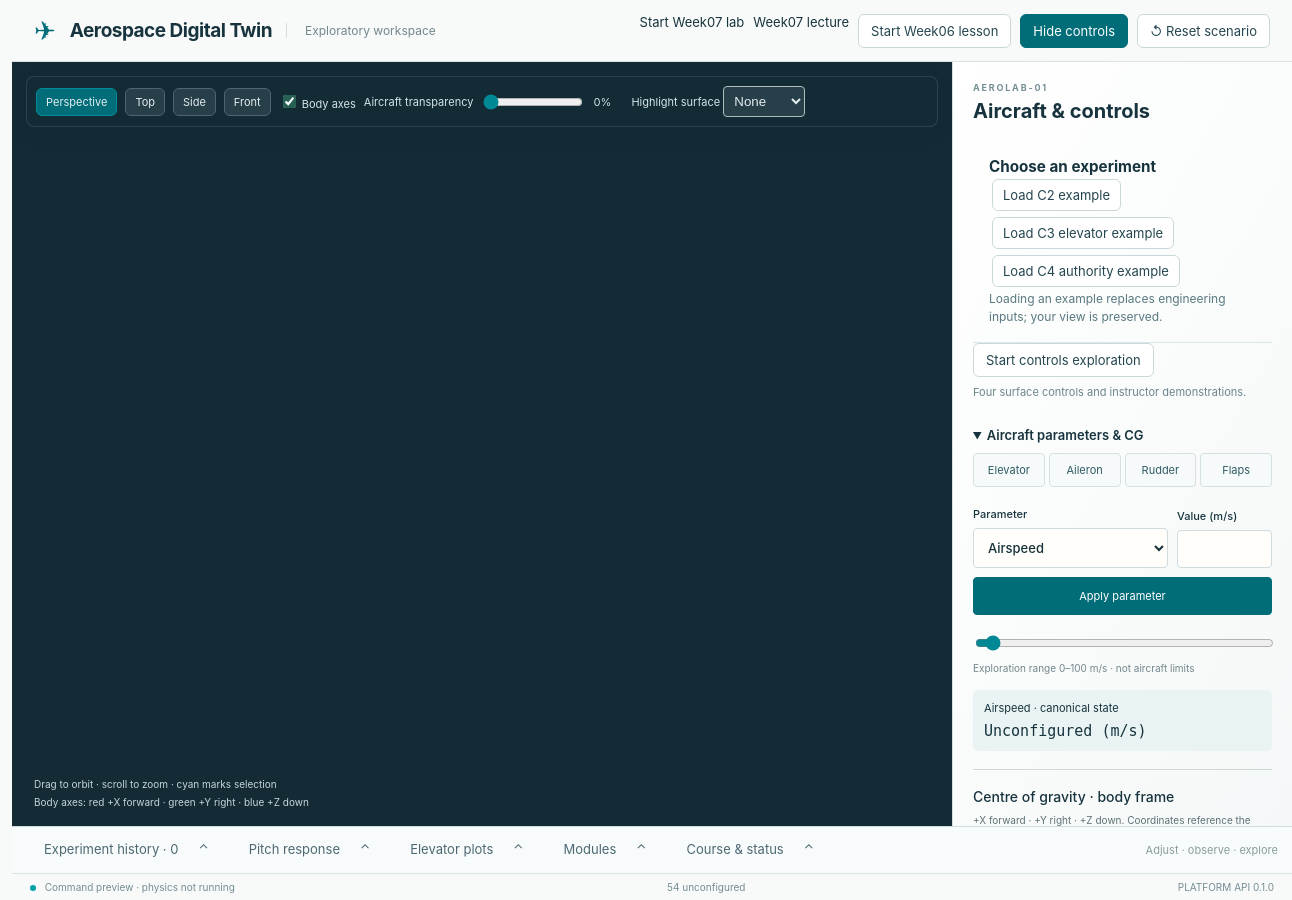
Scenario: parameter workspace › converts degree inputs to canonical radians
Select "Elevator command" in the dropdown labelled "Parameter": (1070, 548) 973,528 -> 1168,568
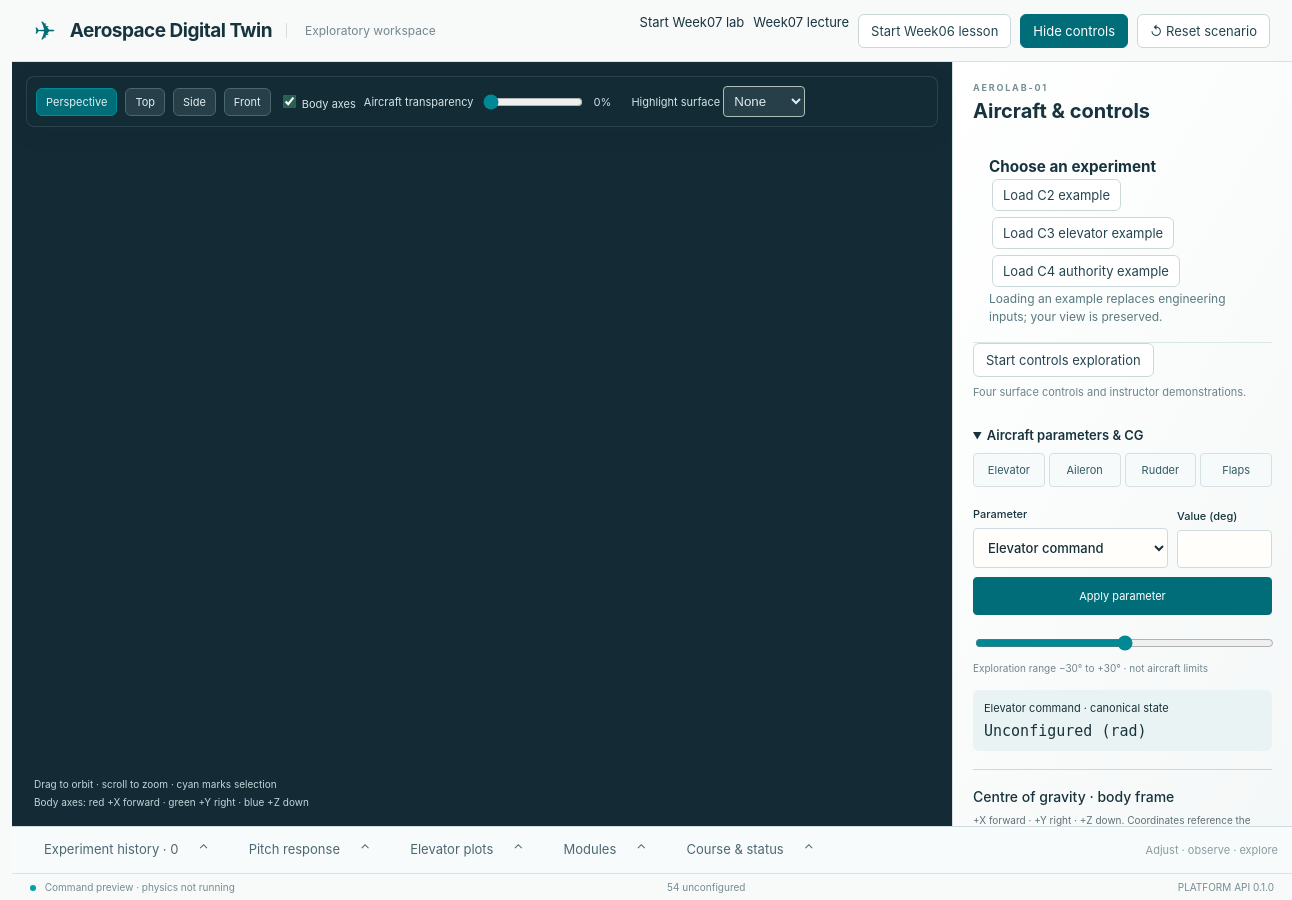
In the number field labelled "Value (deg)": (1224, 549) 1177,530 -> 1272,568, type "15"
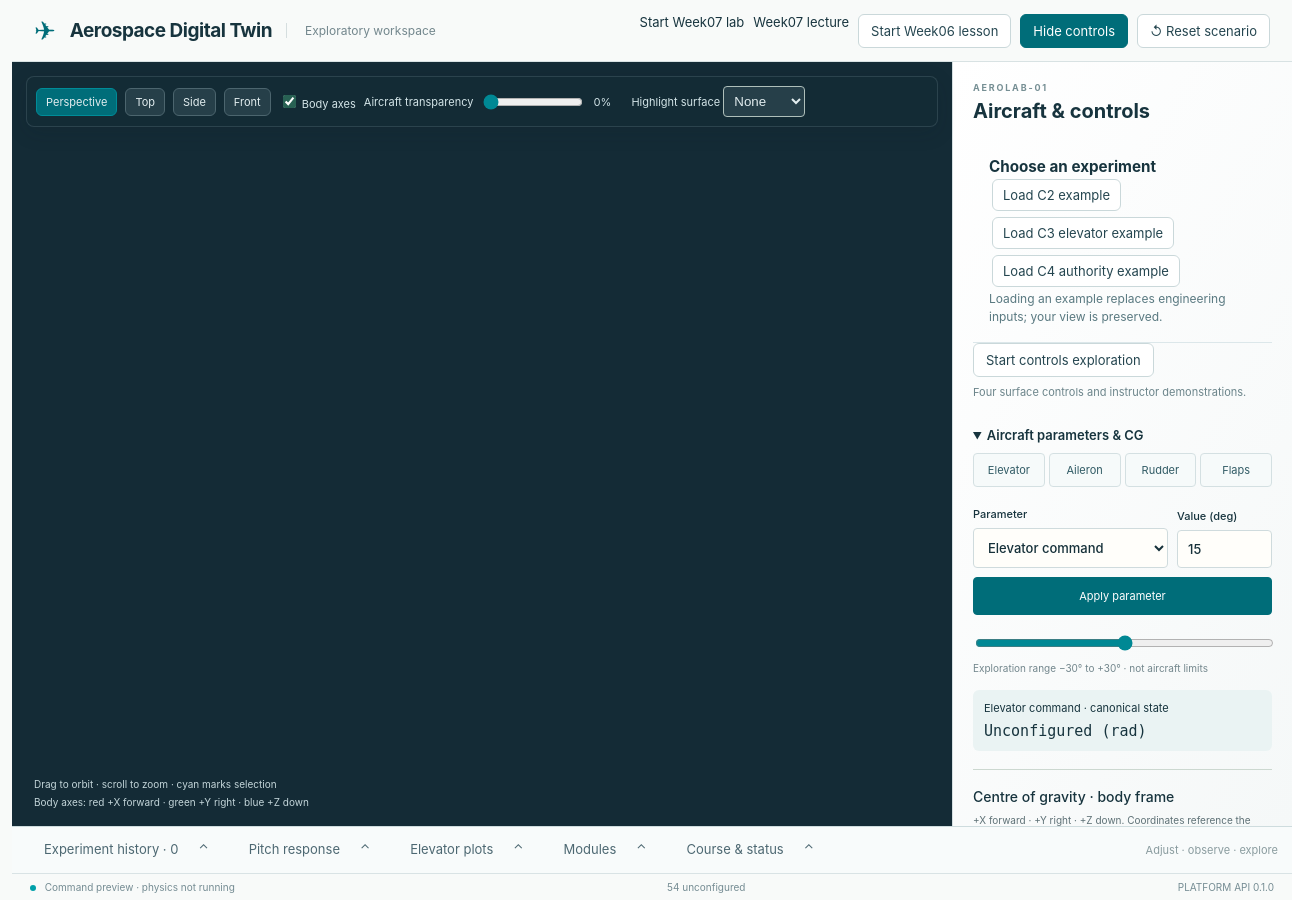
Click the button "Apply parameter": (1122, 596) 973,577 -> 1272,615
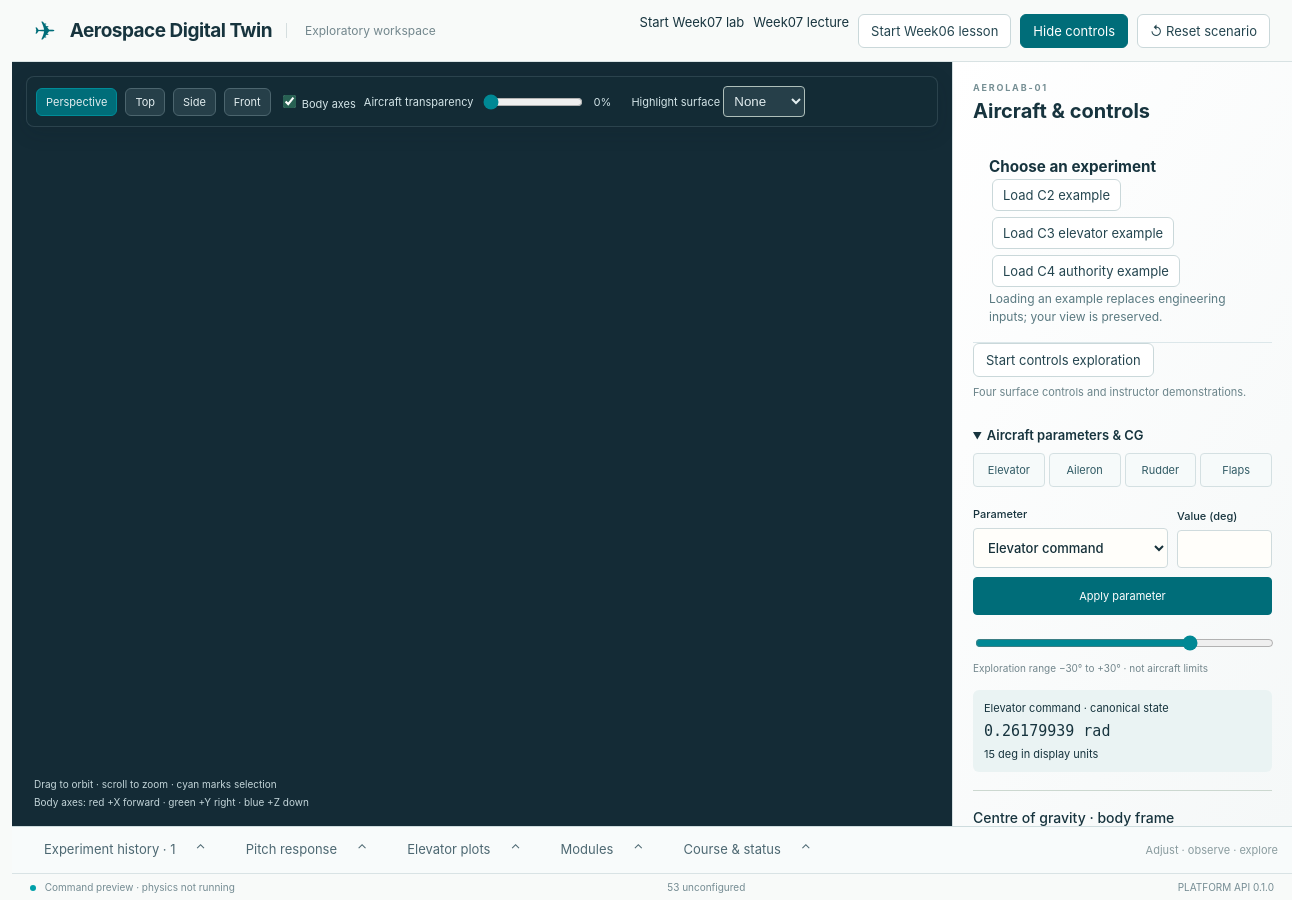
Expected: the text "15 deg in display units" is shown, 984,747 -> 1098,761
